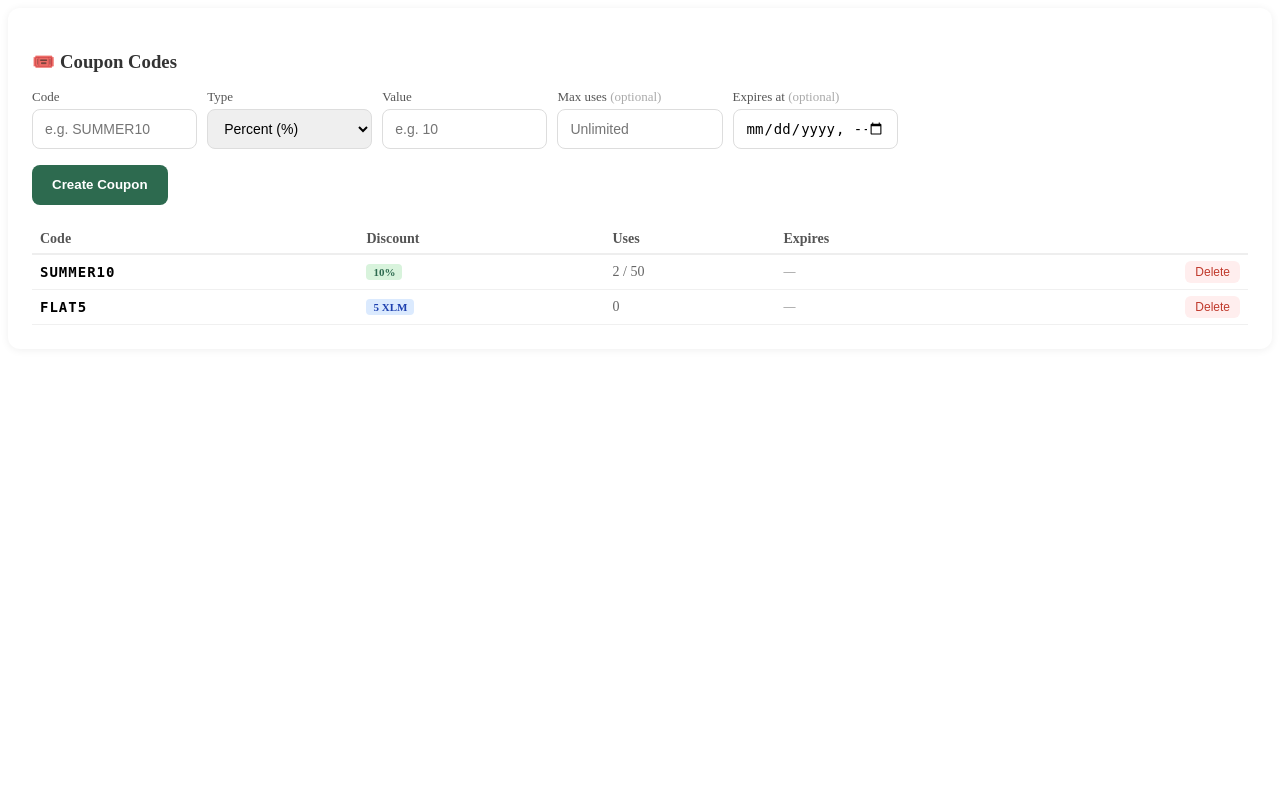
it: CouponManager — delete coupon › shows an accessible confirmation dialog naming the coupon
Check: the text "SUMMER10" is shown, box [32,254,358,289]
Click the button "Delete" in the row of "SUMMER10".
click(1213, 272)  # box [1185,261,1240,283]
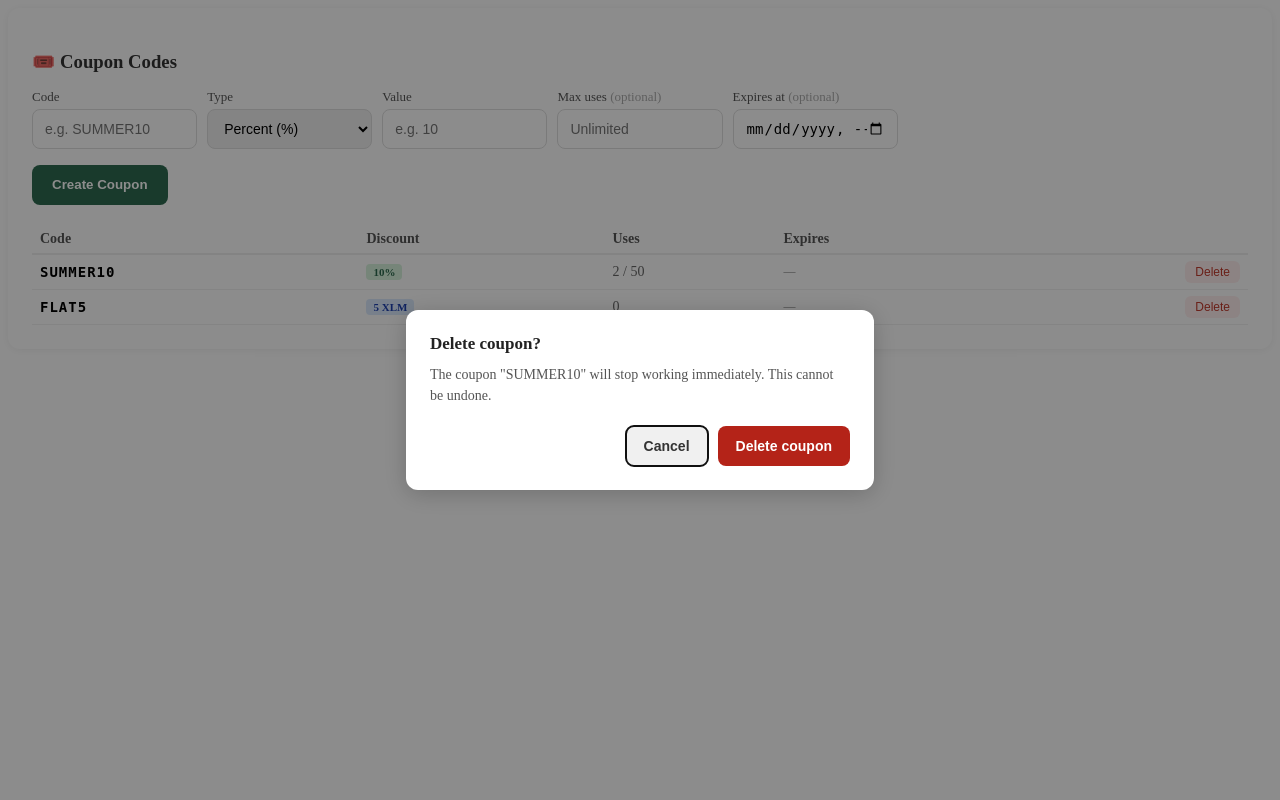
Check: the dialog "Delete coupon" shows "SUMMER10", box [430,367,833,403]
